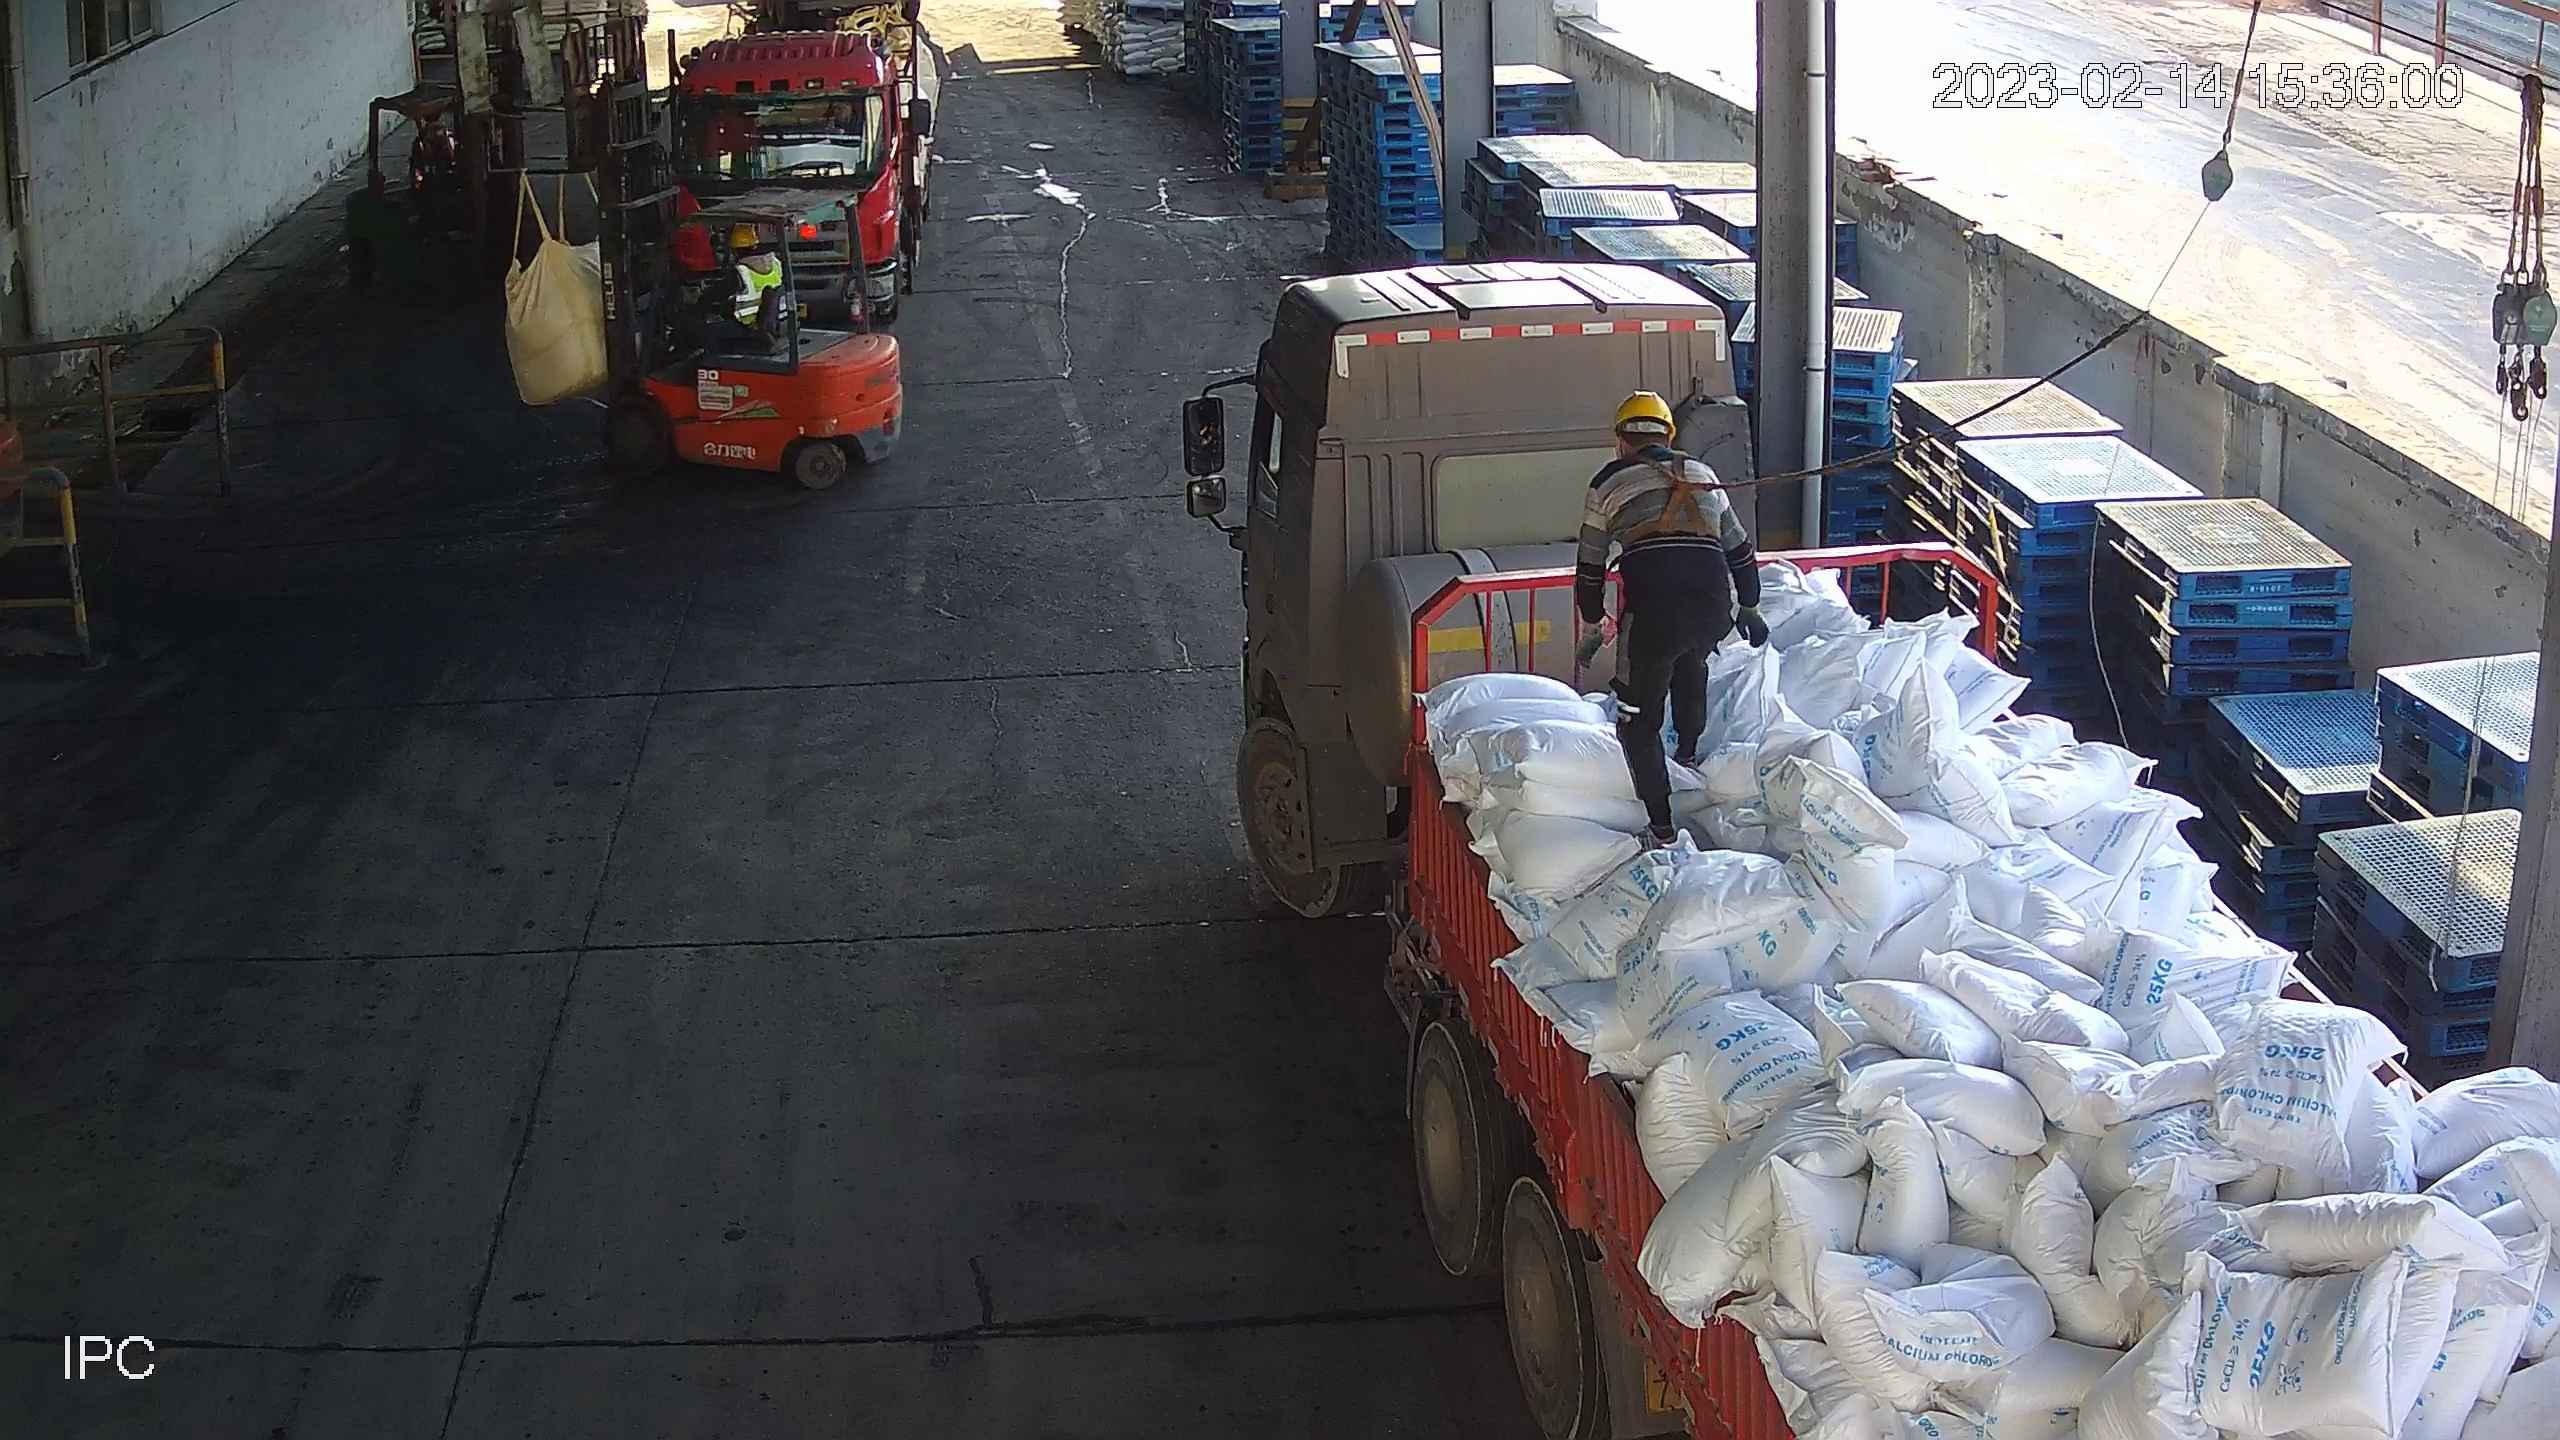belt: (1614, 449, 1756, 544)
head: (1582, 390, 1722, 519), (728, 225, 782, 286)
helmet: (1610, 388, 1675, 427), (729, 223, 761, 248)
people: (1576, 389, 1769, 855), (686, 223, 782, 344)
truck: (1180, 263, 2558, 1440), (667, 1, 937, 325)
